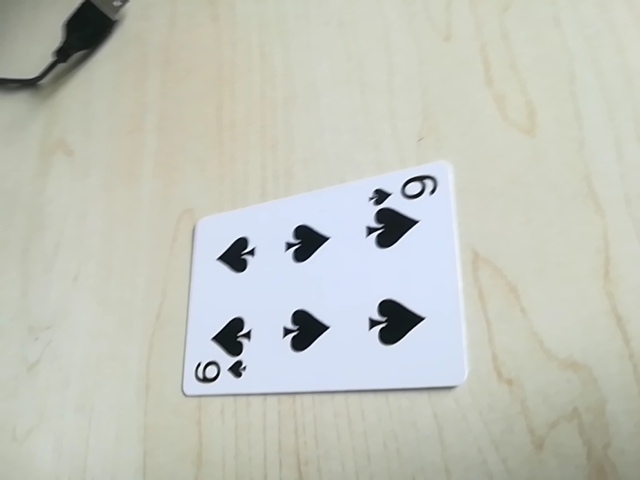ht 6: (369, 172, 446, 208), (187, 354, 250, 394)
